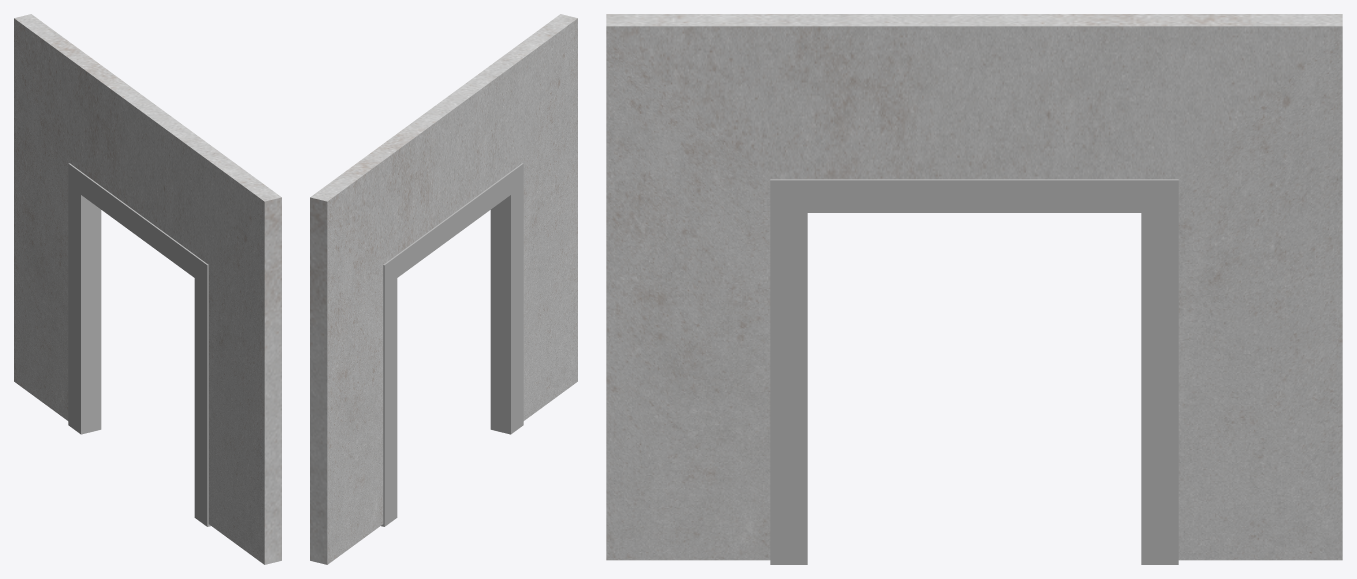
File: SM_White_Red_Wall01E.fbx
The picture shows the model from 3 angles, left to right: view 1: azimuth 30°, elevation 25°; view 2: azimuth 150°, elevation 25°; view 3: azimuth 270°, elevation 25°; orthographic projection. The views are drawn at different scales.
Parts seen in each view (by area): view 1: SM_White_Red_Wall01E; view 2: SM_White_Red_Wall01E; view 3: SM_White_Red_Wall01E.
Part boxes in pixels (left/top/right/bottom): SM_White_Red_Wall01E: left=14, top=14, right=281, bottom=564; SM_White_Red_Wall01E: left=310, top=14, right=577, bottom=564; SM_White_Red_Wall01E: left=606, top=14, right=1342, bottom=564.
Size of the model in its own units: 11.37 by 245 by 197.
